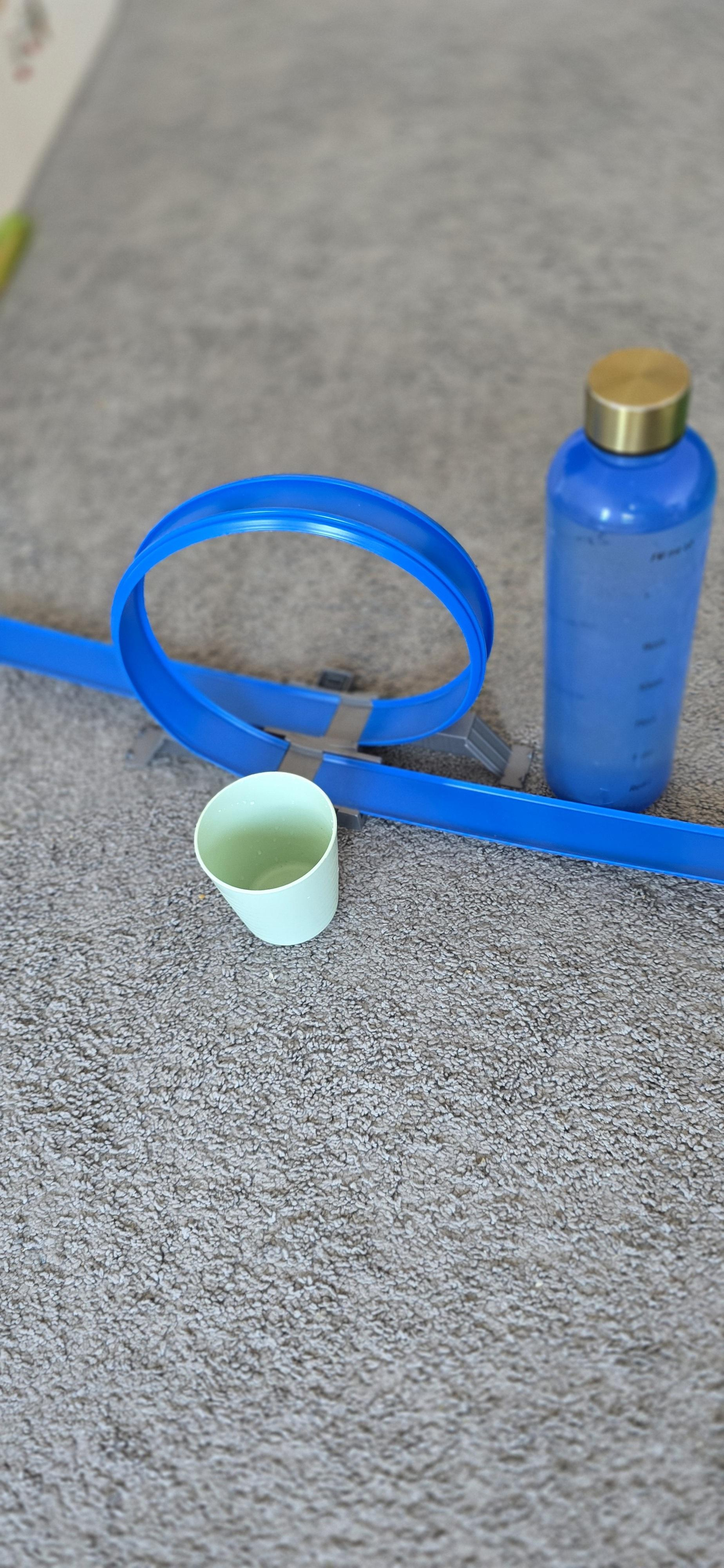bottle: (572, 330, 708, 828)
